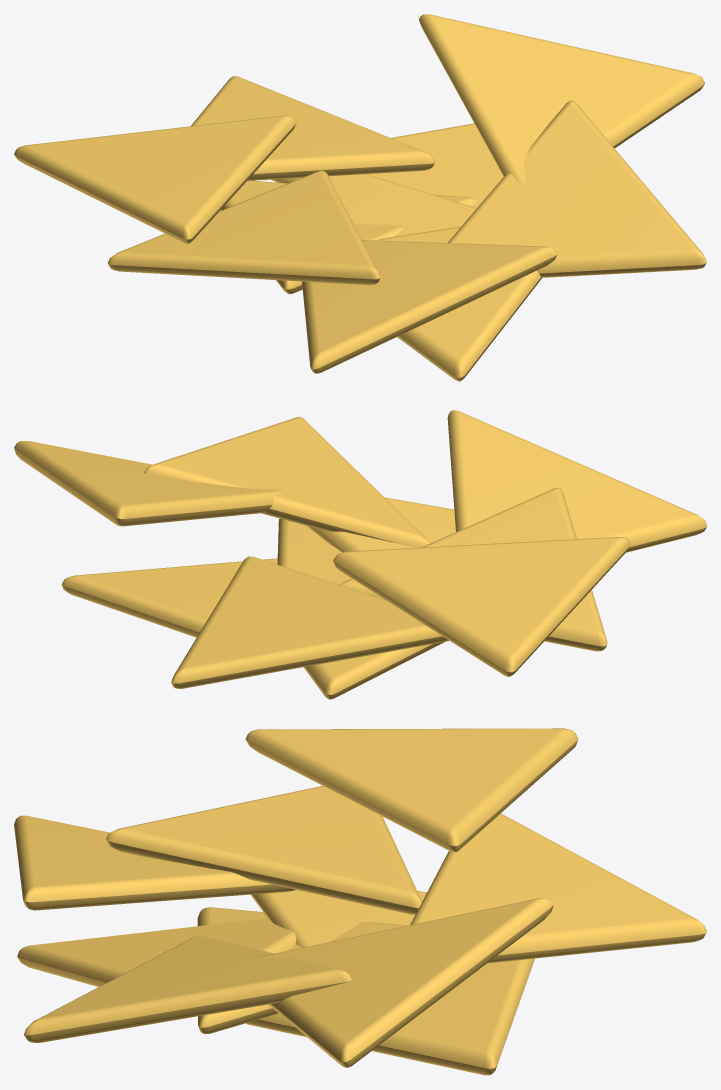
File: tortilla-chips.glb
The picture shows the model from 3 angles, top to bottom: view 1: azimuth 30°, elevation 25°; view 2: azimuth 150°, elevation 25°; view 3: azimuth 270°, elevation 25°; orthographic projection. The views are drawn at different scales.
Parts seen in each view (by area): view 1: tortilla-chips_mesh; view 2: tortilla-chips_mesh; view 3: tortilla-chips_mesh.
Boxes of the visible parts, x1,y1,x2,y2 form: tortilla-chips_mesh: (14,14,706,381); tortilla-chips_mesh: (14,410,706,699); tortilla-chips_mesh: (14,728,706,1075).
Size of the model in its own units: 0.2672 by 0.0668 by 0.2382.
